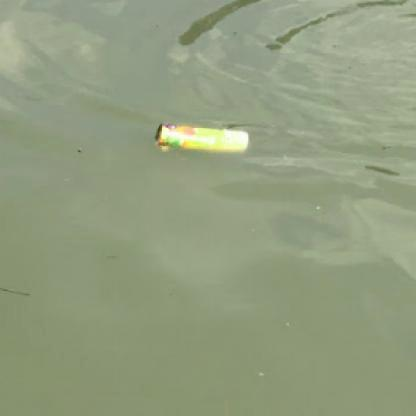Metal: (153, 118, 250, 156)
